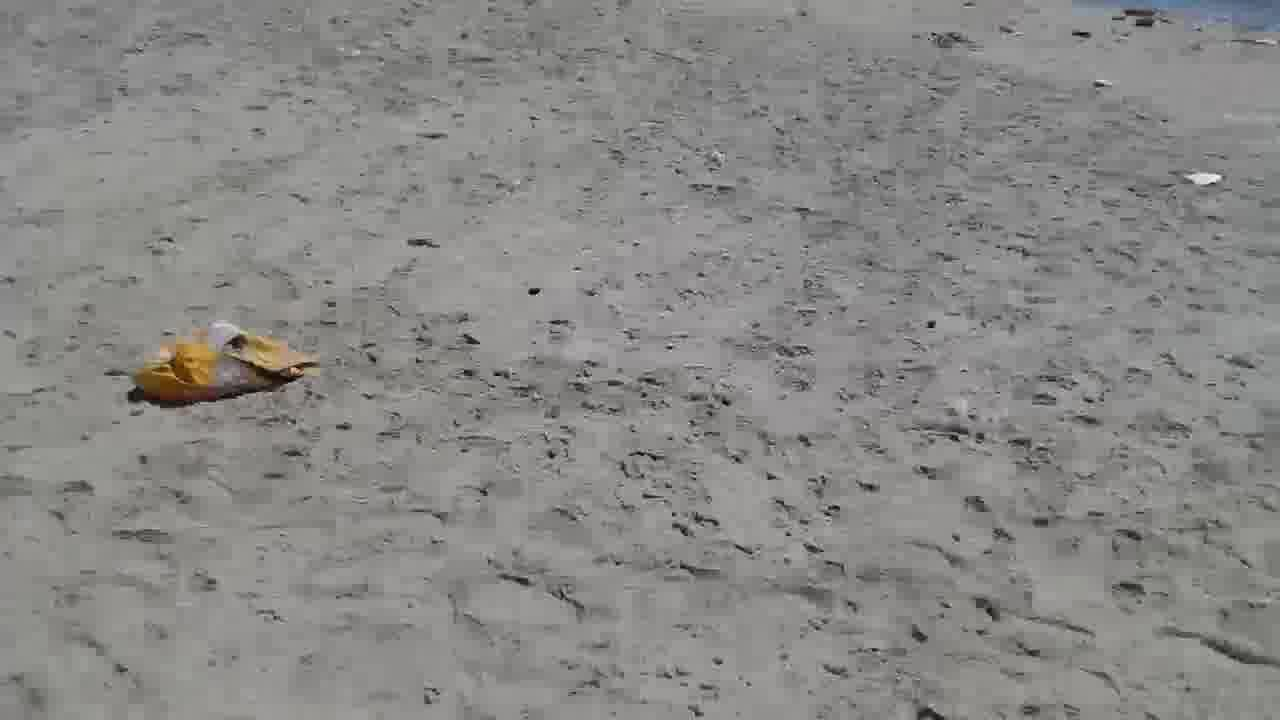obj: (126, 320, 323, 410), (1177, 170, 1225, 188)
sand/background: (903, 0, 1279, 53)
